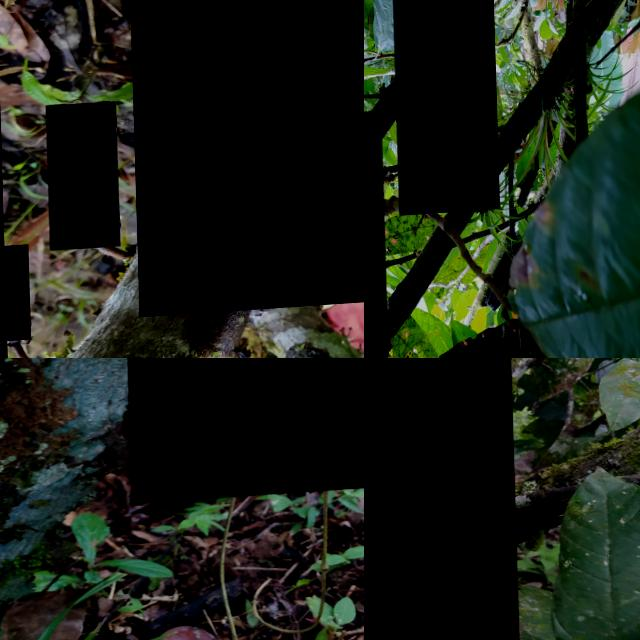Fitoftora: (127, 0, 364, 318), (390, 0, 497, 220)
Monilia: (364, 358, 517, 640), (122, 358, 364, 505)
Sana: (44, 102, 118, 251), (2, 245, 28, 341)
